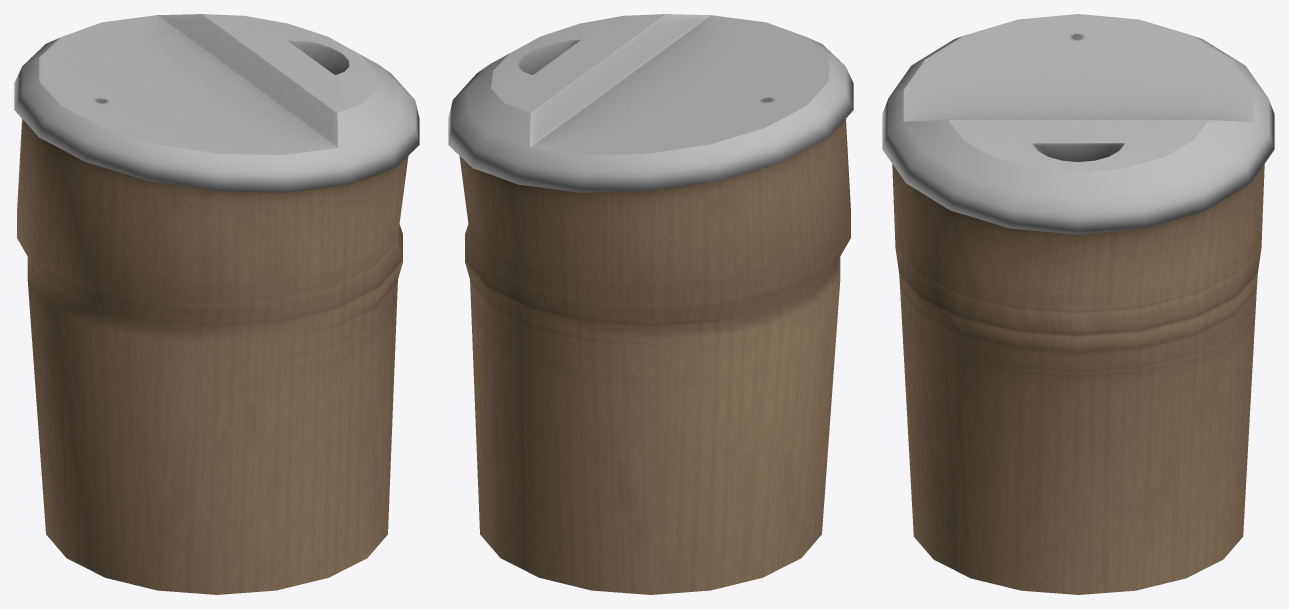
Rendered from cup_01.fbx.
3 renders of one model, left to right at view 1: azimuth 30°, elevation 25°; view 2: azimuth 150°, elevation 25°; view 3: azimuth 270°, elevation 25°, orthographic. The views are drawn at different scales.
Visible parts, largest first — view 1: cup_01; view 2: cup_01; view 3: cup_01.
Part boxes in pixels (x1,y1,x2,y2): cup_01: (14,14,419,594); cup_01: (448,14,853,594); cup_01: (882,14,1274,594).
Bounding box in the file's own units: 25.22 × 30.72 × 24.98.
